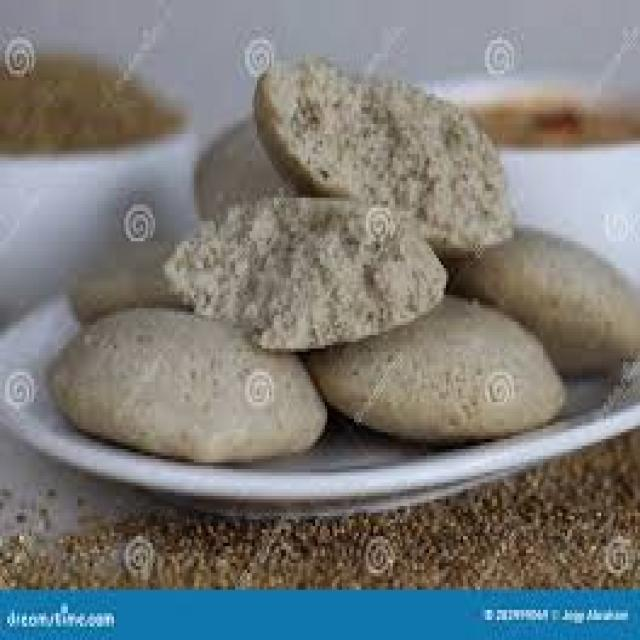IDLI: (162, 194, 441, 345), (453, 231, 635, 369)
